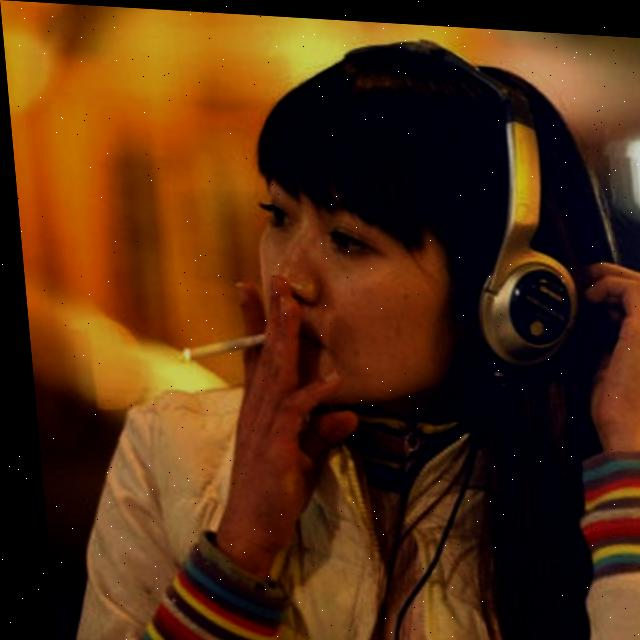cigarette: (173, 327, 262, 366)
